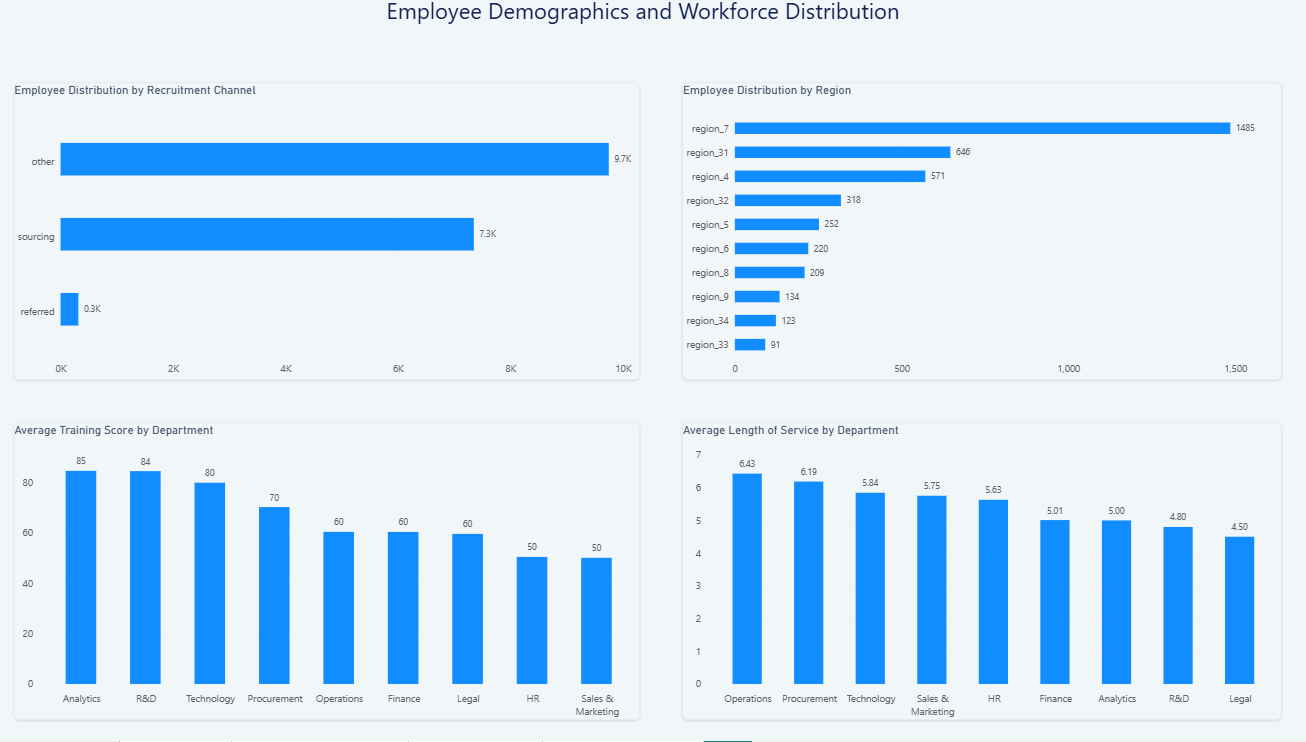

The dashboard page shown, as its layout file describes it:
{"tool":"powerbi","page":{"name":"Employee Analysis","canvas":[1920,1080],"ordinal":1},"visuals":[{"type":"textbox","box":[466.9,0,962.7,56.1],"z":0},{"type":"clusteredBarChart","title":"Employee Distribution by Recruitment Channel","fields":{"Category":["HR.recruitment_channel"],"Y":["Count(HR.employee_id)"]},"box":[41.6,126.7,906.6,430.7],"z":1000},{"type":"clusteredBarChart","title":"Employee Distribution by Region","fields":{"Y":["Count(HR.employee_id)"],"Category":["HR.region"]},"box":[1009.8,126.7,866.8,430.7],"z":2000},{"type":"clusteredColumnChart","title":"Average Training Score by Department","fields":{"Category":["HR.department"],"Y":["HR.Average Training Score"]},"box":[41.6,618.9,906.6,430.7],"z":3000},{"type":"clusteredColumnChart","title":"Average Length of Service by Department","fields":{"Y":["Avg(HR.length_of_service)"],"Category":["HR.department"]},"box":[1009.8,618.9,866.8,430.7],"z":4000}]}

Visuals, with their boxes in screenshot pixels (x1, y1, x2, y2), scaled from the page's 1920x1080 canvas onto the 1306x742 screenshot:
textbox: {"left": 318, "top": 0, "right": 972, "bottom": 39}
"Employee Distribution by Recruitment Channel" clusteredBarChart: {"left": 28, "top": 87, "right": 645, "bottom": 383}
"Employee Distribution by Region" clusteredBarChart: {"left": 687, "top": 87, "right": 1276, "bottom": 383}
"Average Training Score by Department" clusteredColumnChart: {"left": 28, "top": 425, "right": 645, "bottom": 721}
"Average Length of Service by Department" clusteredColumnChart: {"left": 687, "top": 425, "right": 1276, "bottom": 721}
